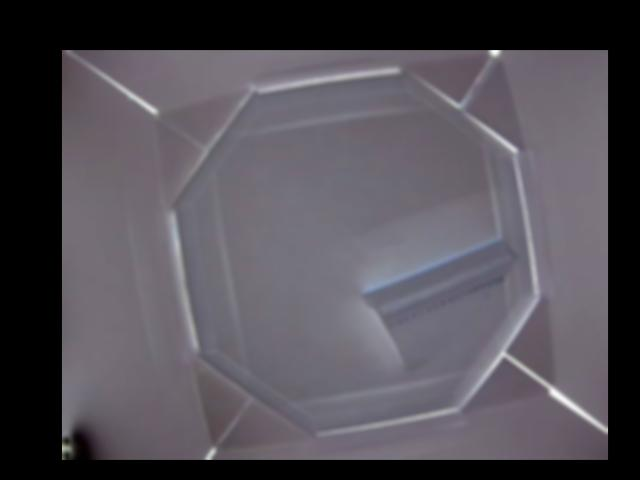China: (364, 240, 519, 368)
